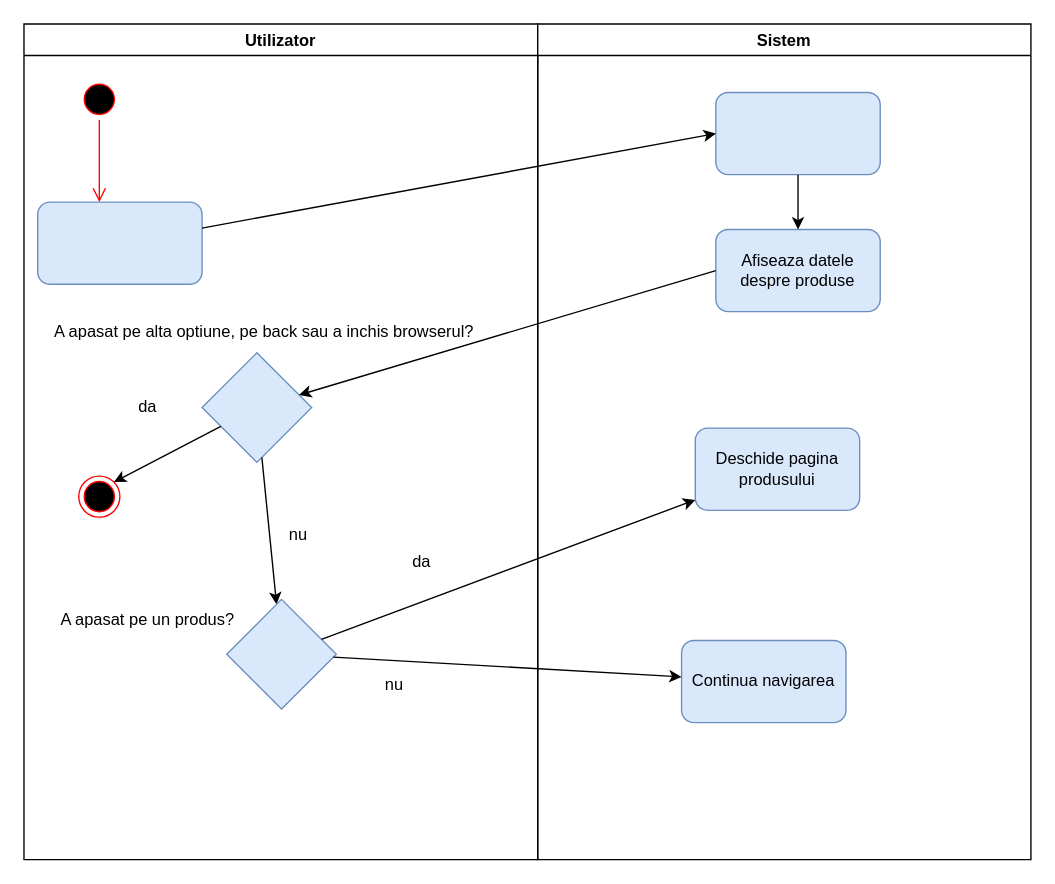
Image size: 1055x884. Some labels were removed from this diagram. Each missing label, with the centre of its shape:
Acceseaza pagina de meniu a restaurantului: point 119,242
Preia datele de pe server: point 797,133
